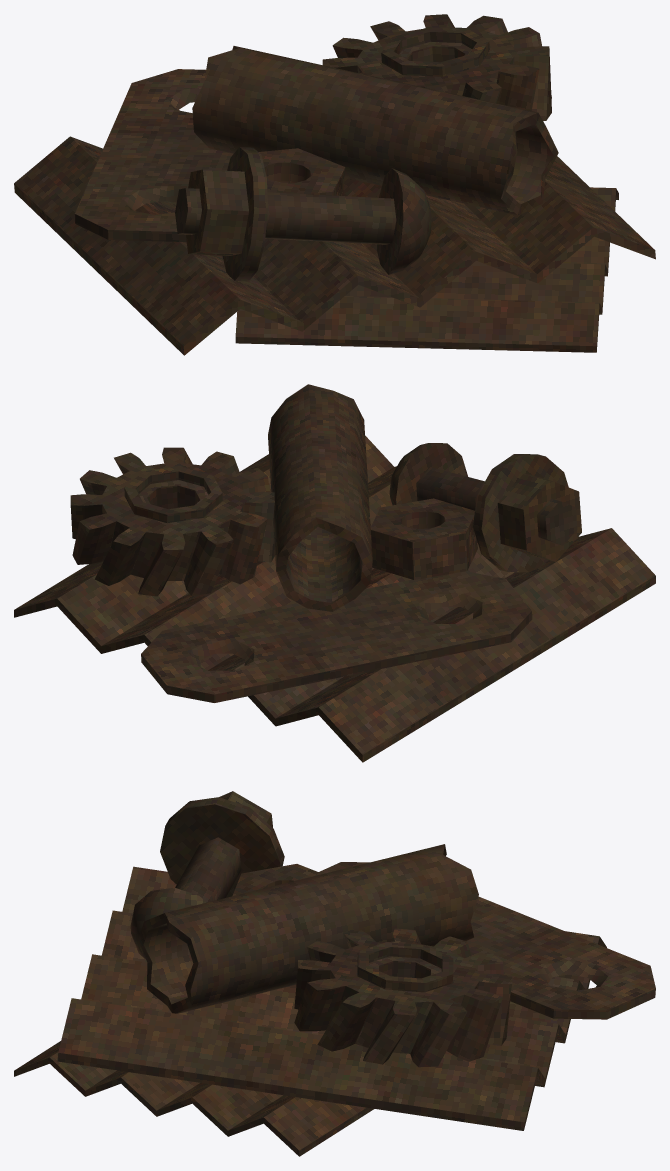
Rendered from scrap_metal_mx_1_2.glb.
3 views of the same model, one above another, from view 1: azimuth 30°, elevation 25°; view 2: azimuth 150°, elevation 25°; view 3: azimuth 270°, elevation 25° (orthographic). The views are drawn at different scales.
Visible parts, largest first — view 1: scrap_metal_mx_1_2; view 2: scrap_metal_mx_1_2; view 3: scrap_metal_mx_1_2.
Boxes of the visible parts, box(x1,y1,x2,y2) form: scrap_metal_mx_1_2: box(14, 14, 655, 355); scrap_metal_mx_1_2: box(14, 384, 655, 762); scrap_metal_mx_1_2: box(14, 791, 655, 1156).
Bounding box in the file's own units: 0.3174 × 0.106 × 0.3591.
1 material, 1 textured.
